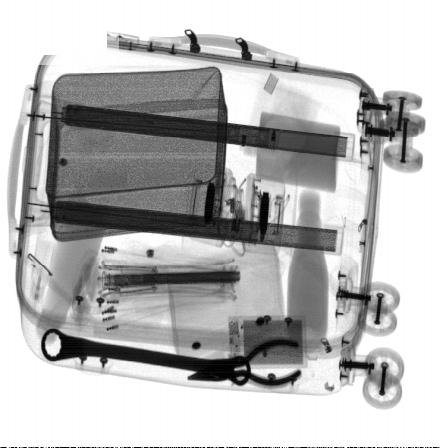Pliers: (187, 337, 302, 388)
Powerbank: (227, 314, 307, 369)
Wrench: (41, 325, 250, 386)
